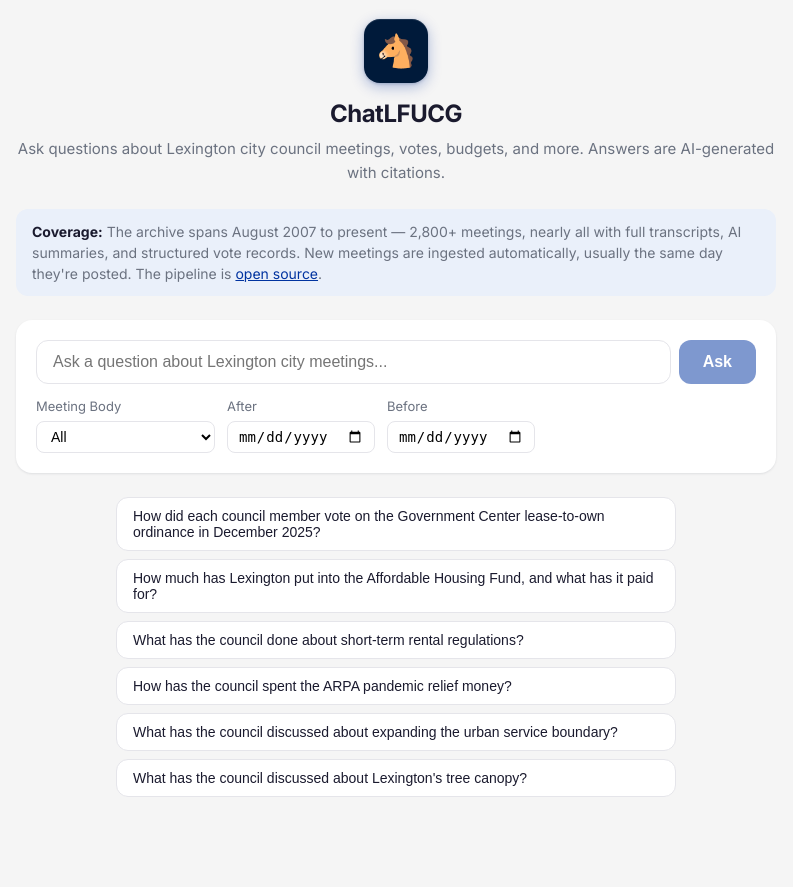
Test: AskQuestion › keeps the old render-everything behavior when no source has a cited flag
The image size is (793, 887).
Type "test question" into the field with placeholder "Ask a question about Lexington city meetings..." at (353,362), box [36,340,671,384]
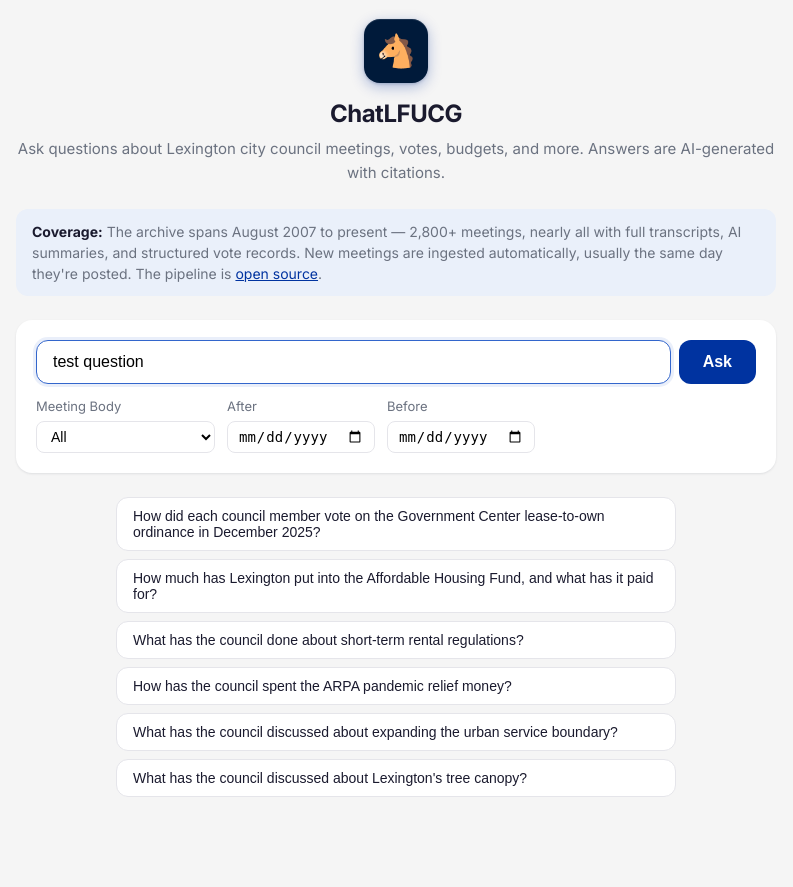
Click the button "Ask" at (717,362), box [679,340,756,384]
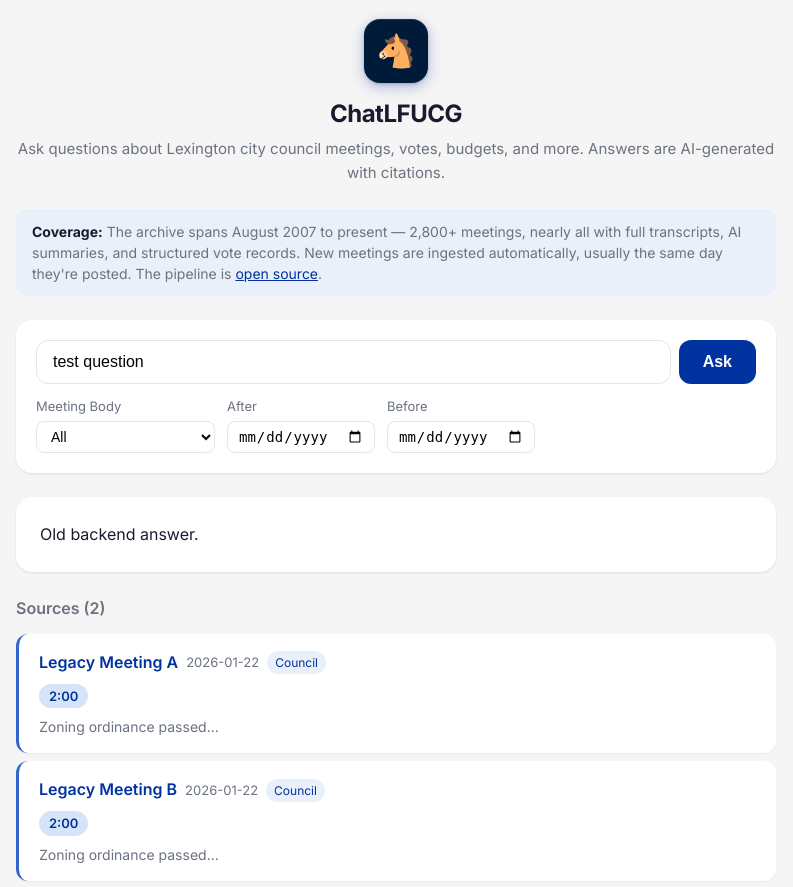
Now the heading "Sources (2)" is shown, box [16,598,106,618]
Now the link "Legacy Meeting A" is shown, box [39,650,178,676]
Now the link "Legacy Meeting B" is shown, box [39,777,177,803]
